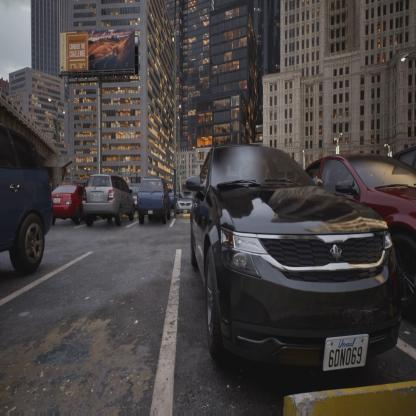License-Plate: (320, 326, 373, 379)
